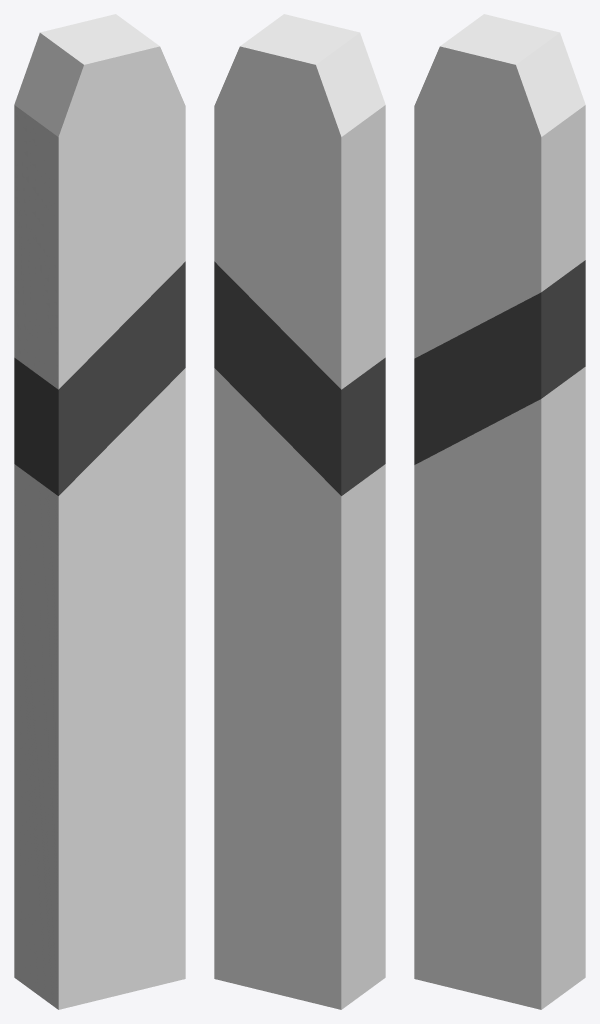
Rendered from SM_Barrier_02.fbx.
3 views of the same model, side by side, from view 1: azimuth 30°, elevation 25°; view 2: azimuth 150°, elevation 25°; view 3: azimuth 330°, elevation 25° (orthographic).
Visible parts, largest first — view 1: SM_Barrier_02; view 2: SM_Barrier_02; view 3: SM_Barrier_02.
Boxes of the visible parts, <box> form: SM_Barrier_02: <box>14,14,185,1009</box>; SM_Barrier_02: <box>214,14,385,1009</box>; SM_Barrier_02: <box>414,14,585,1009</box>.
Size of the model in its own units: 9.37 by 66.11 by 5.65.
